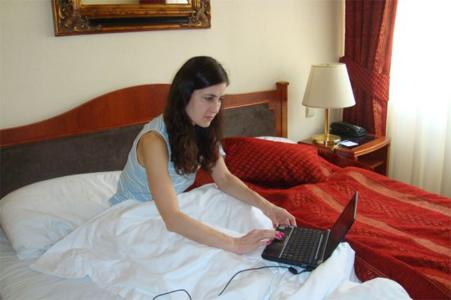person: (109, 56, 297, 258)
